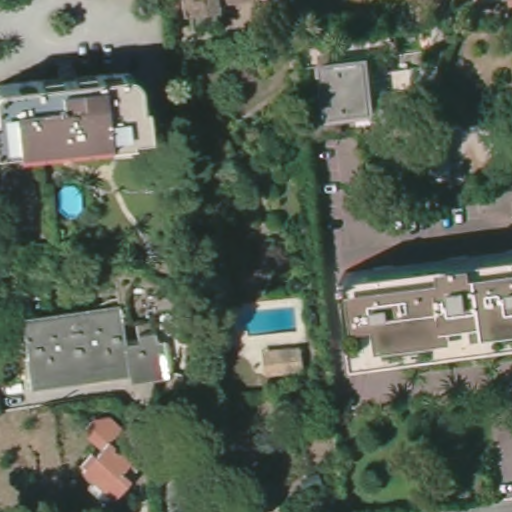pool: (243, 302, 300, 337), (53, 183, 86, 217)
